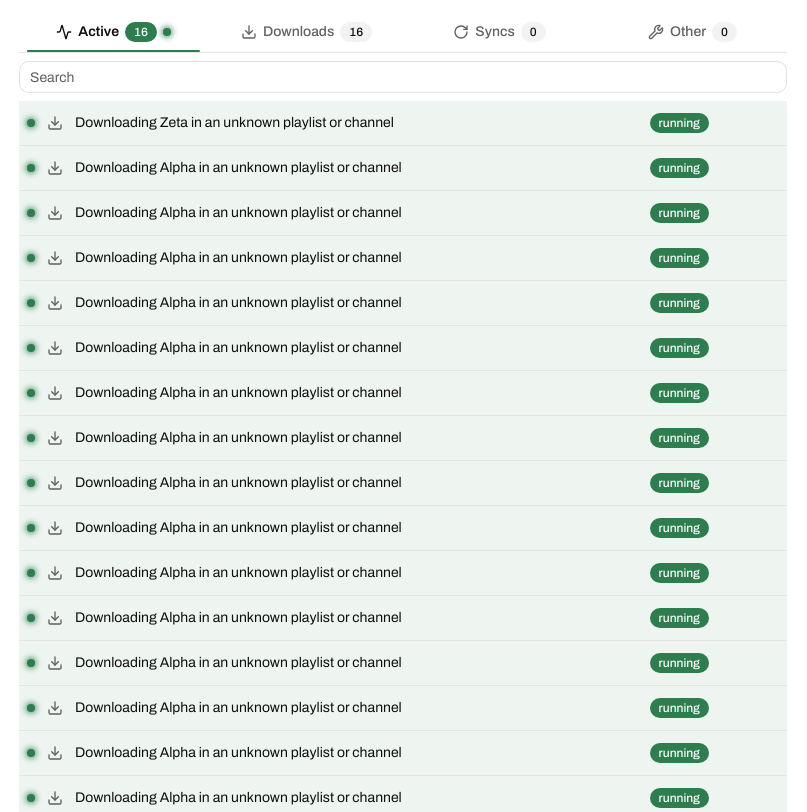
it: TasksView › filters the current tab by description and says when nothing matches
Type "zeta" into the search field named "Search tasks".
click(403, 77); type("zeta")  # box [19,61,787,93]
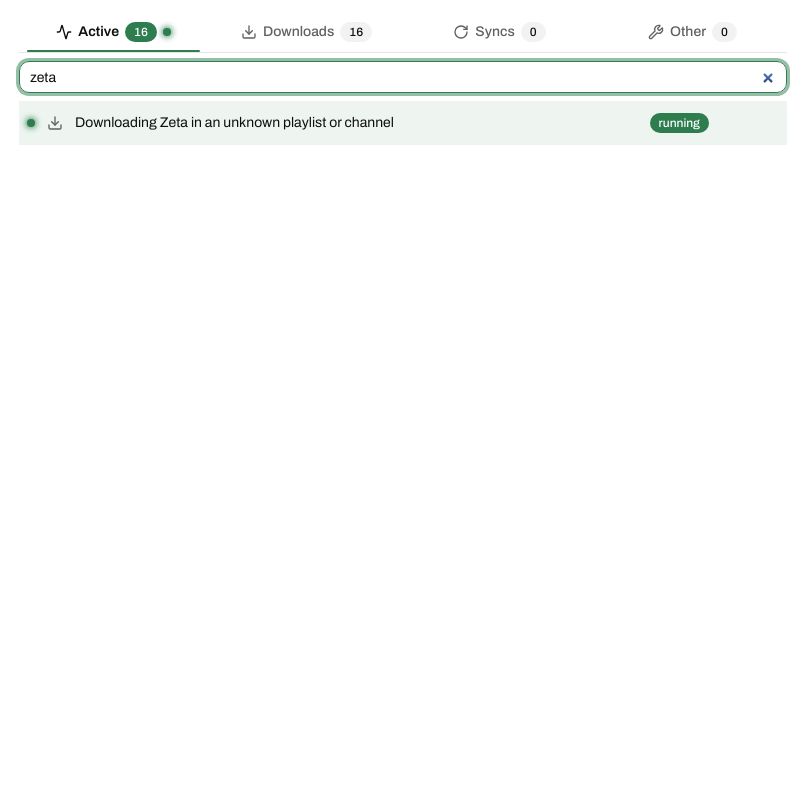
Expected: the text "Downloading Zeta in an unknown playlist or channel" is shown, [75,115,394,130]
Result: the number of list items is 1 at [19,101,787,145]
Replace the text in the search field named "Search tasks" with "nomatch" at (403, 77), box [19,61,787,93]
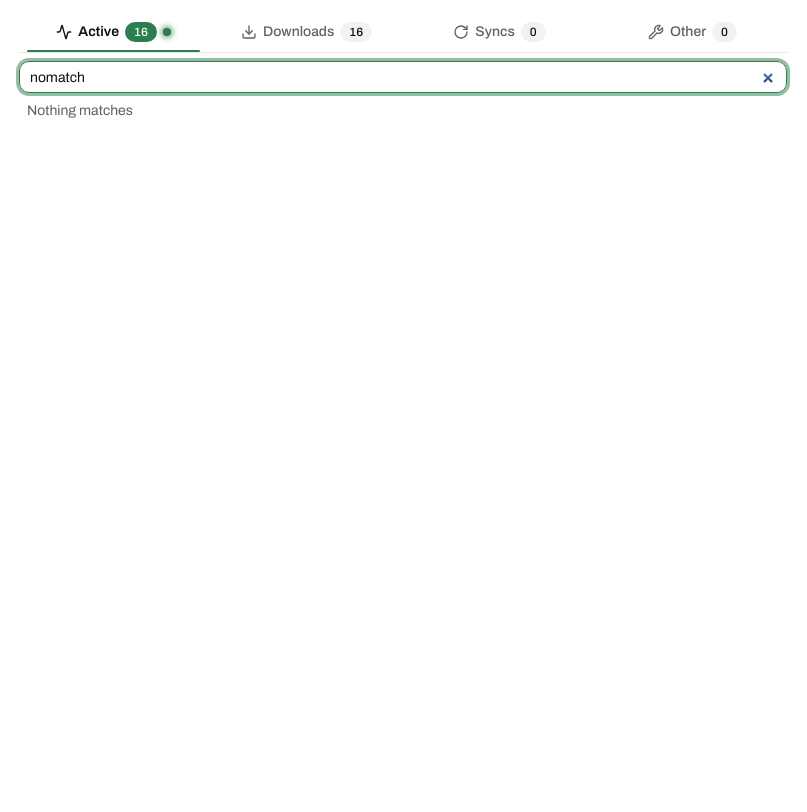
Result: the list item "Downloading Zeta in an unknown playlist or channel running" is gone
Result: the text "Nothing matches" is shown at [27,103,133,118]
